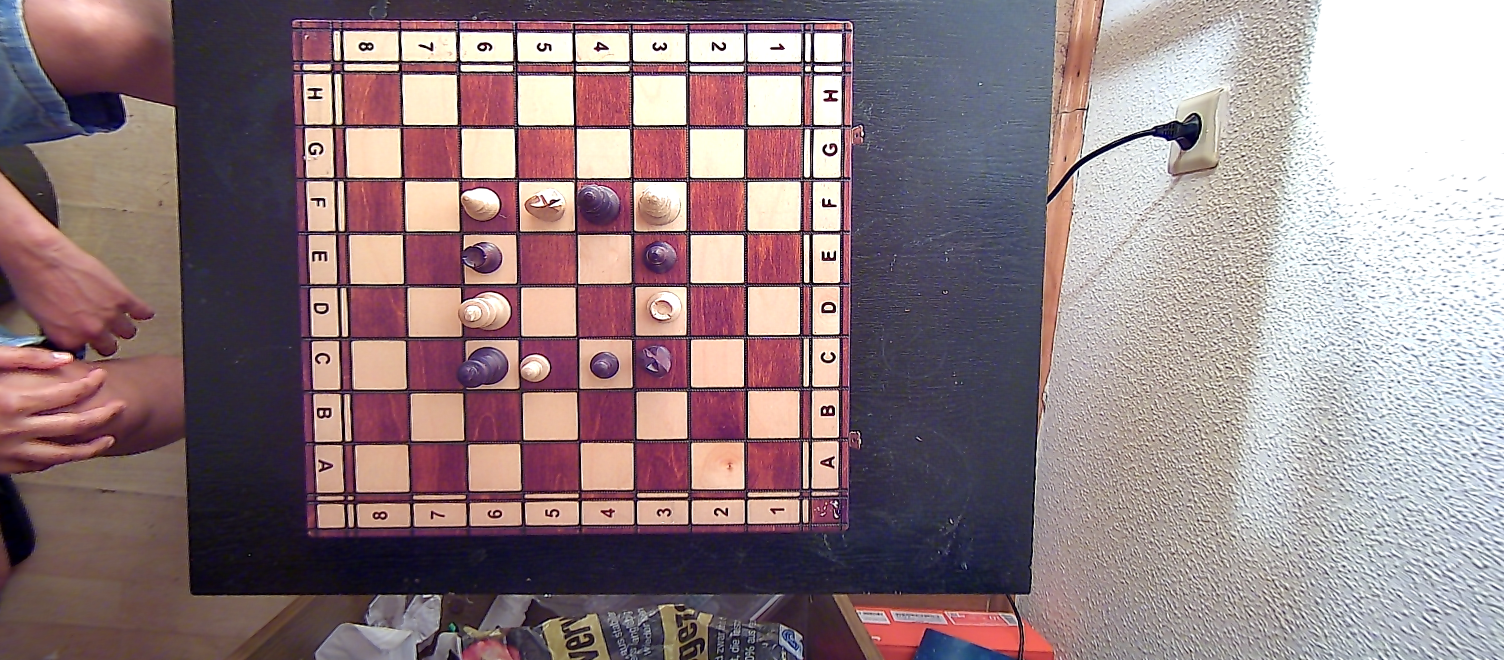black-bishop: (638, 236, 683, 278)
black-king: (456, 344, 510, 390)
black-knight: (632, 338, 676, 380)
black-pawn: (587, 349, 622, 382)
black-queen: (574, 182, 623, 227)
black-rook: (460, 239, 503, 276)
white-bishop: (457, 181, 502, 223)
white-king: (457, 291, 510, 333)
white-knight: (522, 185, 569, 226)
white-pawn: (519, 350, 553, 387)
white-queen: (635, 183, 684, 226)
white-rook: (643, 289, 684, 328)
